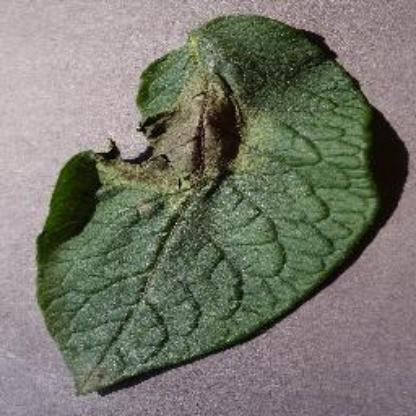Late-Blight: (32, 16, 384, 396)
